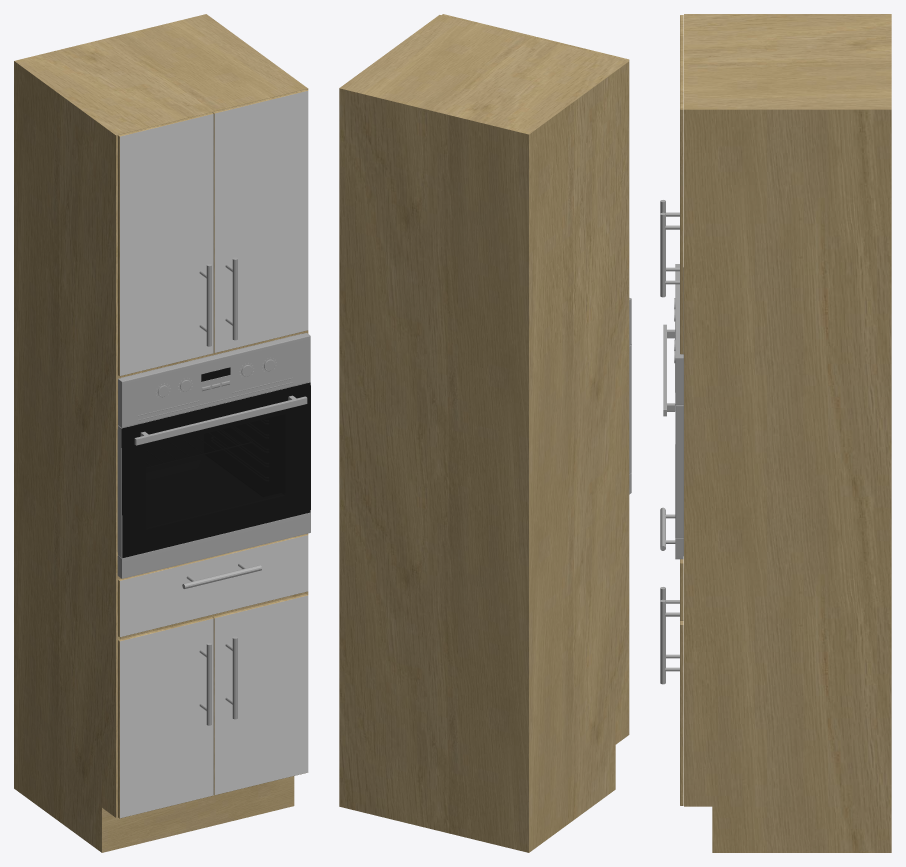
Rendered from highCabinet.obj.
3 renders of one model, left to right at view 1: azimuth 30°, elevation 25°; view 2: azimuth 150°, elevation 25°; view 3: azimuth 270°, elevation 25°, orthographic. The views are drawn at different scales.
Parts seen in each view (by area): view 1: Cube.011_Cube.018, electric_oven_embedable.002_Cube.006; view 2: Cube.011_Cube.018, electric_oven_embedable.002_Cube.006; view 3: Cube.011_Cube.018, electric_oven_embedable.002_Cube.006.
Part boxes in pixels (x1,y1,x2,y2): Cube.011_Cube.018: (14,14,308,852); electric_oven_embedable.002_Cube.006: (117,333,310,578); Cube.011_Cube.018: (339,14,629,852); electric_oven_embedable.002_Cube.006: (629,298,631,494); Cube.011_Cube.018: (660,14,891,852); electric_oven_embedable.002_Cube.006: (663,264,683,559).
Bounding box in the file's own units: 60 × 217 × 61.25.
Materials: 13 (5 with a texture image).
